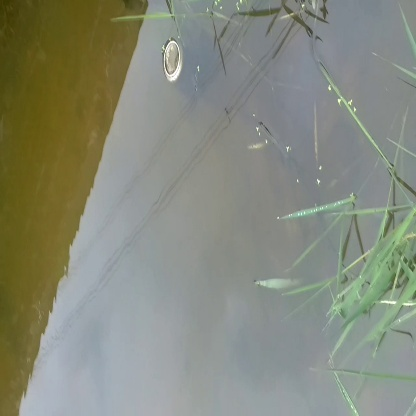bottle: (158, 37, 193, 91)
